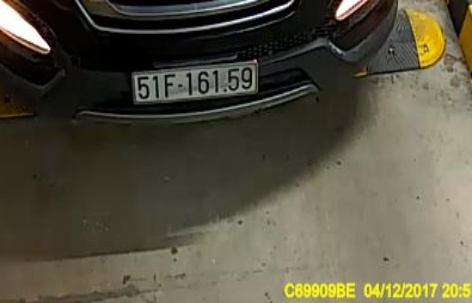plate: (125, 59, 265, 104)
